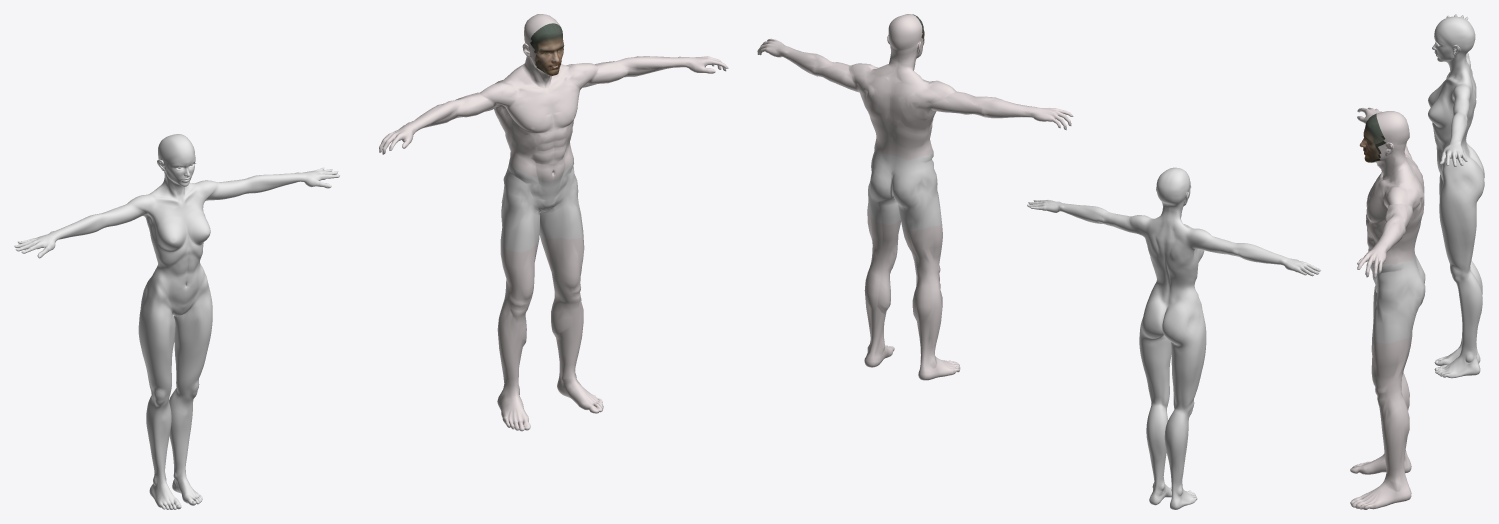
Rendered from body.gltf.
3 renders of one model, left to right at view 1: azimuth 30°, elevation 25°; view 2: azimuth 150°, elevation 25°; view 3: azimuth 270°, elevation 25°, orthographic. The views are drawn at different scales.
Visible parts, largest first — view 1: nan, nv; view 2: nan, nv; view 3: nan, nv.
Boxes of the visible parts, x1,y1,x2,y2 form: nan: (379, 14, 728, 431); nv: (14, 134, 339, 509); nan: (757, 14, 1073, 380); nv: (1027, 167, 1321, 509); nan: (1350, 107, 1425, 509); nv: (1428, 14, 1484, 378).
Size of the model in its own units: 13.48 by 8.32 by 2.46.
Materials: 5 (1 with a texture image).
